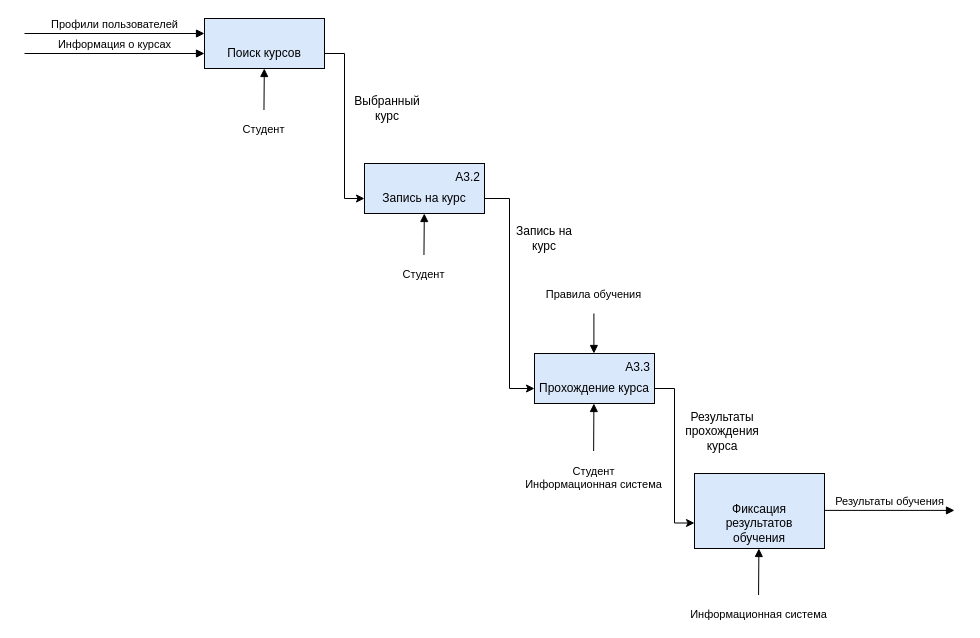
The diagram is 980 pixels wide and 638 high, and some of its shapes have lost their labels. The centre of each missing label's shape, as x and y in pixels:
"A3.1" goes at point 264,43.
"A3.4" goes at point 759,510.
